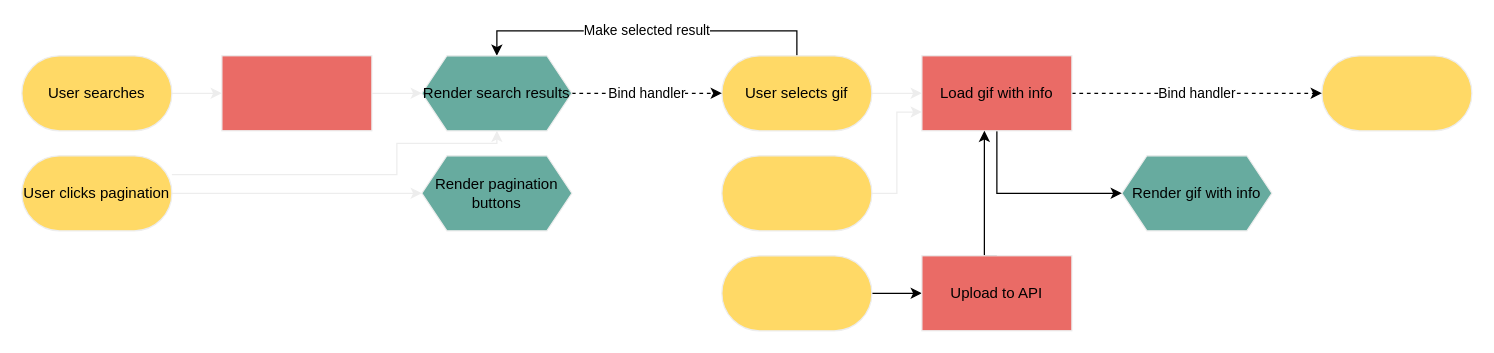
Some shapes in this 1494 by 353 pixel diagram are drawn without their labels. The box of each missing label's shape, as (x1, y1, x2, y2) in pixels:
Gif loads with gif id: (721, 154, 872, 231)
Load search results: (221, 54, 372, 131)
User downloads gif to clipboard: (1321, 54, 1472, 131)
User uploads gif: (721, 254, 872, 331)
